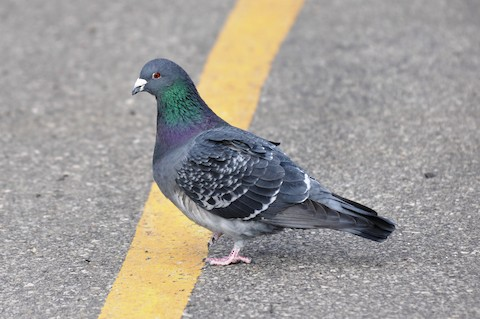pigeon: (127, 56, 396, 270)
